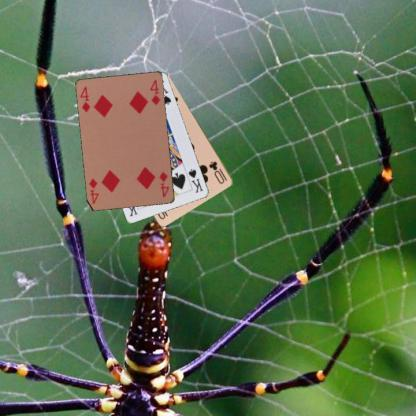10c: (206, 159, 228, 185)
4d: (156, 169, 170, 199), (78, 84, 92, 113)
Ks: (186, 167, 205, 194)
